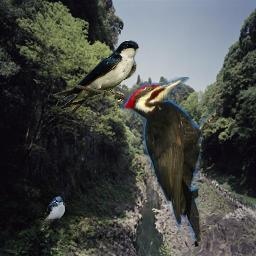Swallow: (53, 40, 139, 115), (40, 196, 65, 228)
Woodpecker: (119, 77, 216, 242)
